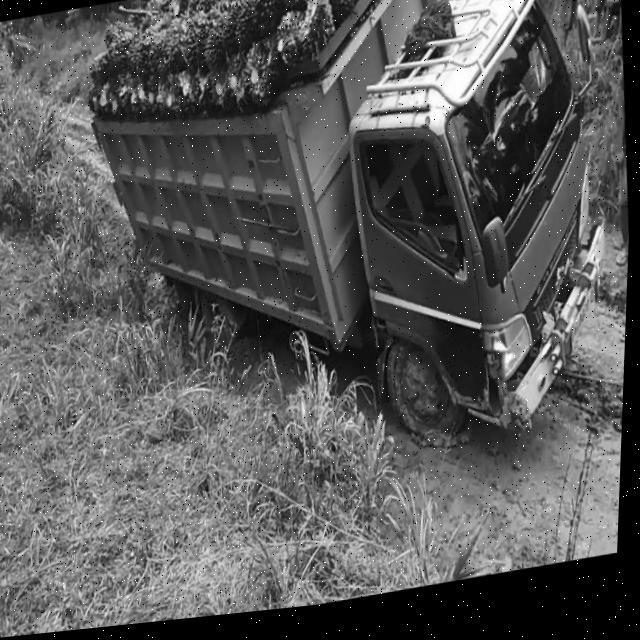truck: (299, 1, 640, 490)
